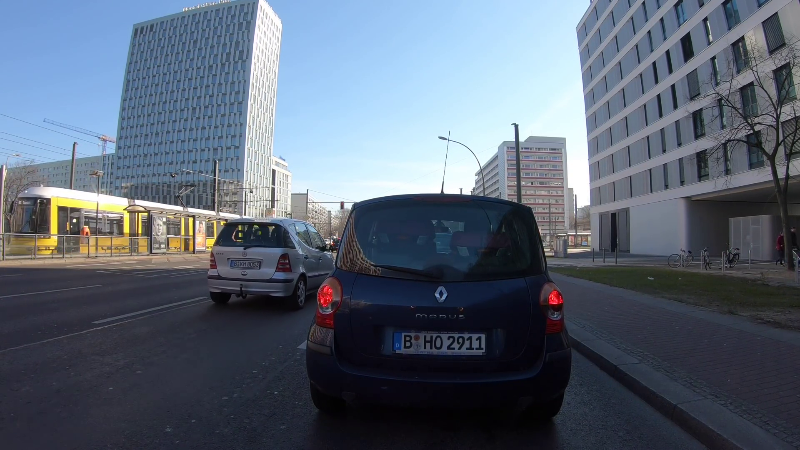Plate: (390, 327, 486, 360), (229, 258, 263, 271)
